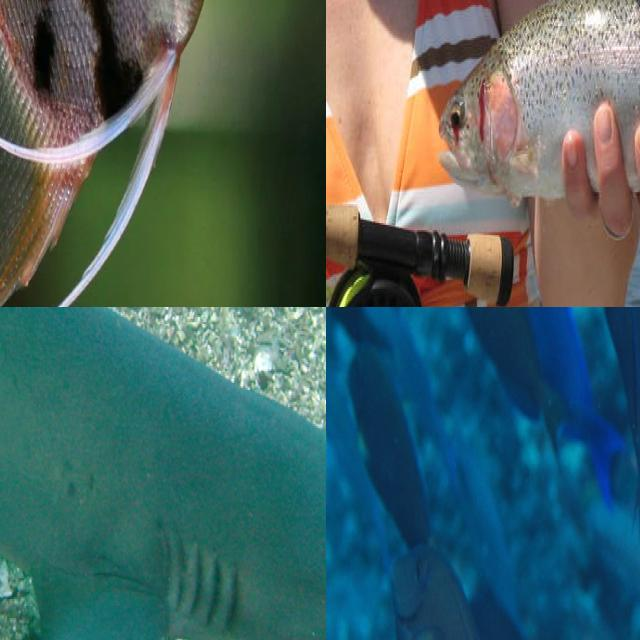fish: (0, 307, 326, 640), (0, 0, 326, 307), (428, 0, 640, 307)
